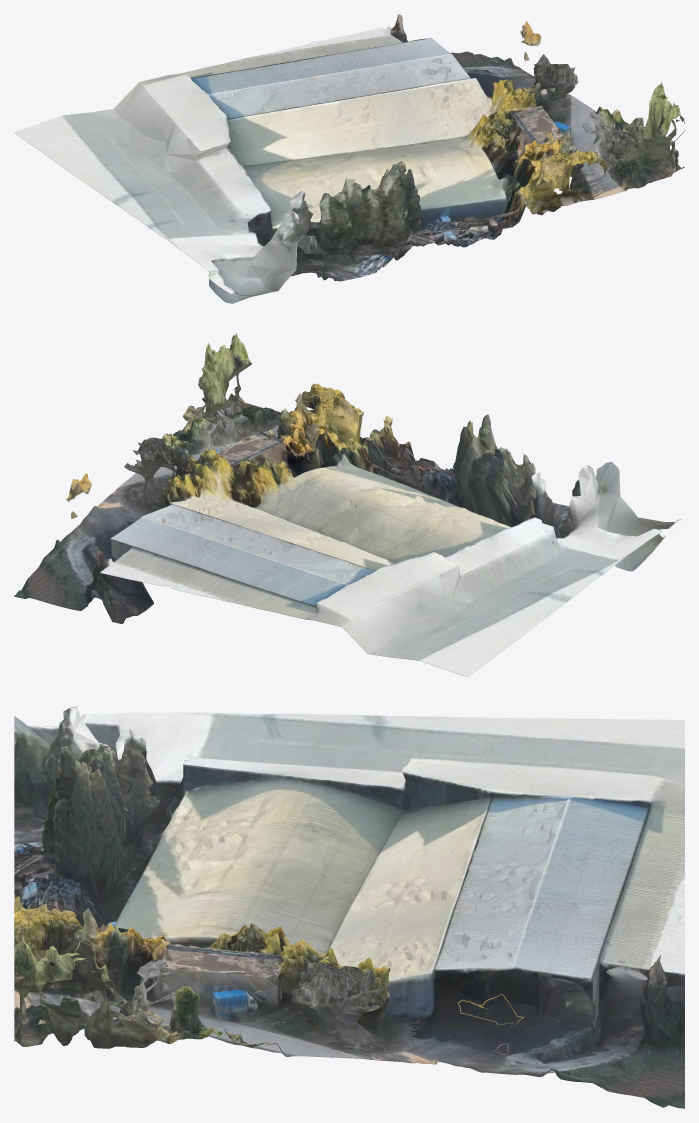
File: BlockBBBY_L18_26.glb
3 renders of one model, top to bottom at view 1: azimuth 30°, elevation 25°; view 2: azimuth 150°, elevation 25°; view 3: azimuth 270°, elevation 25°, orthographic. The views are drawn at different scales.
Visible parts, largest first — view 1: rtc; view 2: rtc; view 3: rtc.
Part boxes in pixels (x1,y1,x2,y2): rtc: (14, 14, 684, 303); rtc: (14, 333, 684, 677); rtc: (14, 706, 684, 1108).
Bounding box in the file's own units: 107 × 27.21 × 88.78.
2 materials, 2 textured.
